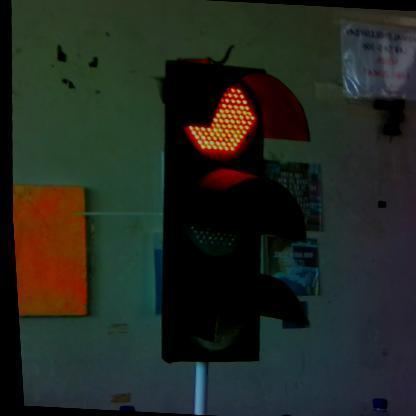red: (142, 50, 322, 369)
